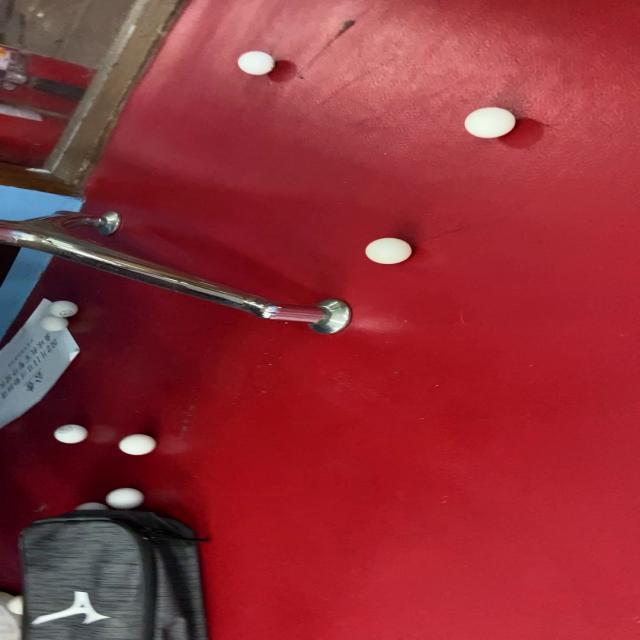ping-pong-ball: (458, 105, 523, 141), (363, 236, 418, 266), (233, 48, 279, 76), (102, 486, 150, 512), (116, 432, 162, 457), (51, 425, 90, 445), (38, 316, 76, 336), (46, 300, 78, 318)
